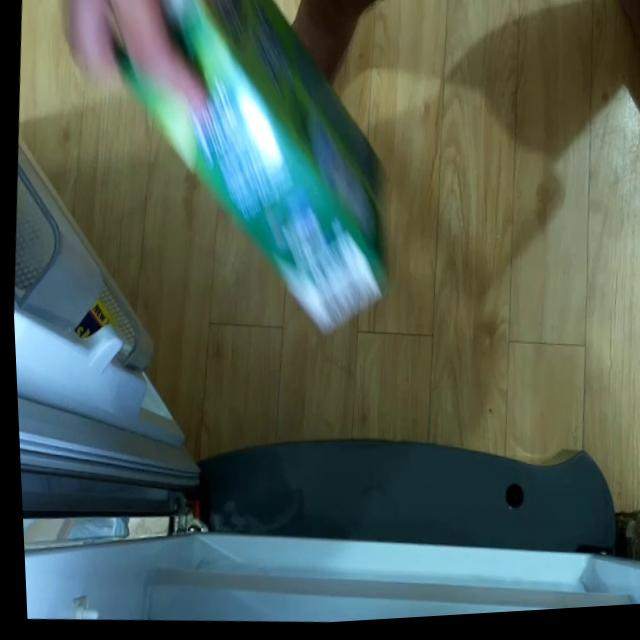milk: (91, 0, 410, 359)
